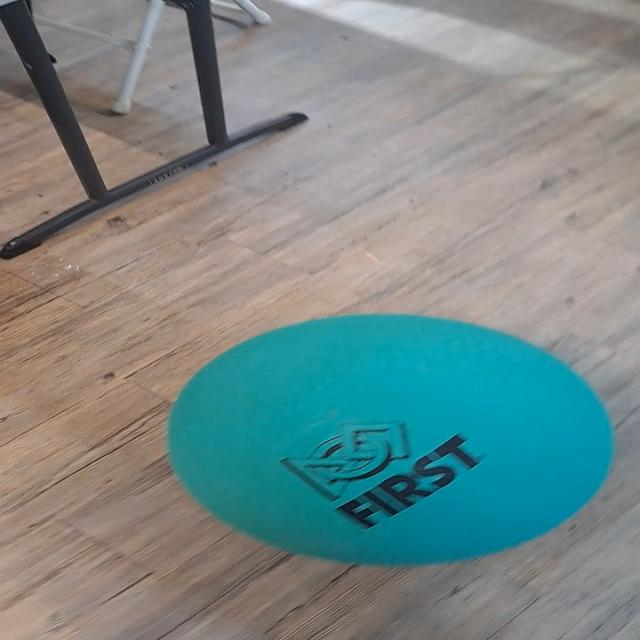ALGAE: (164, 312, 616, 568)
